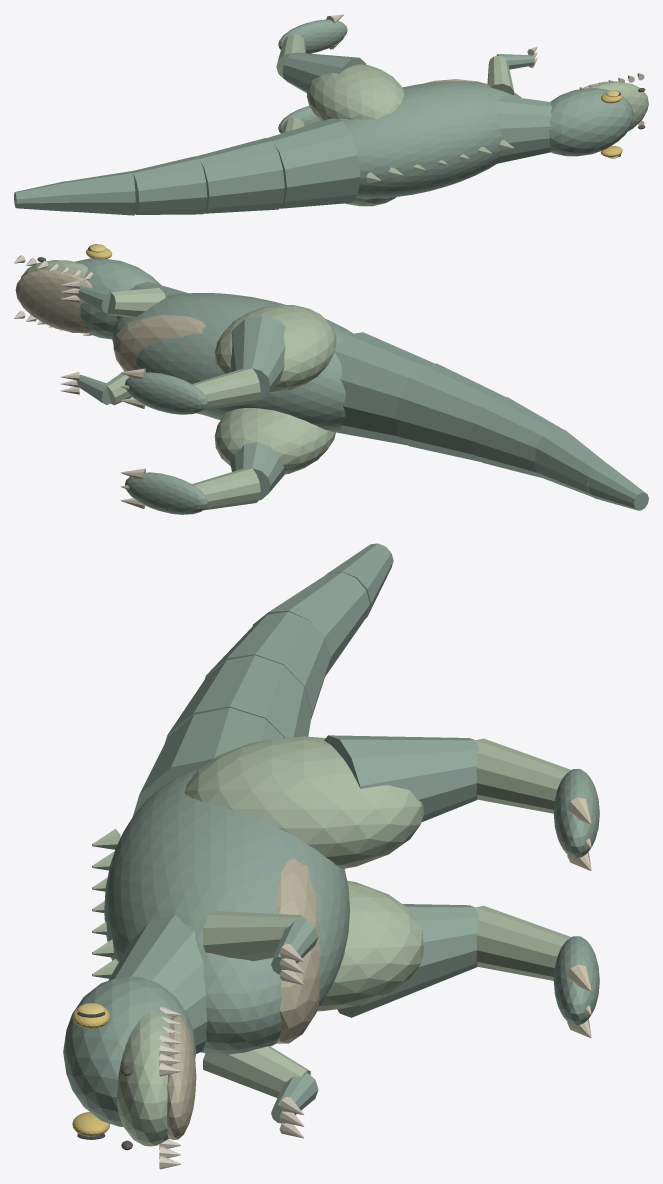
The model's file is Compsognathus.glb.
The picture shows the model from 3 angles, top to bottom: view 1: azimuth 30°, elevation 25°; view 2: azimuth 150°, elevation 25°; view 3: azimuth 270°, elevation 25°; orthographic projection. The views are drawn at different scales.
Parts seen in each view (by area): view 1: Compsognathus_000, Compsognathus_007, Compsognathus_008, Compsognathus_003, Compsognathus_034, Compsognathus_009, Compsognathus_002, Compsognathus_010, Compsognathus_035, Compsognathus_037, Compsognathus_011, Compsognathus_004 (+5 smaller); view 2: Compsognathus_000, Compsognathus_008, Compsognathus_007, Compsognathus_012, Compsognathus_034, Compsognathus_009, Compsognathus_005, Compsognathus_035, Compsognathus_010, Compsognathus_003, Compsognathus_001, Compsognathus_015 (+10 smaller); view 3: Compsognathus_000, Compsognathus_034, Compsognathus_035, Compsognathus_003, Compsognathus_012, Compsognathus_008, Compsognathus_002, Compsognathus_004, Compsognathus_007, Compsognathus_013, Compsognathus_009, Compsognathus_014 (+11 smaller).
Boxes of the visible parts, x1,y1,x2,y2 form: Compsognathus_000: (323, 81, 521, 198); Compsognathus_007: (267, 118, 360, 208); Compsognathus_008: (196, 138, 284, 213); Compsognathus_003: (549, 88, 633, 156); Compsognathus_034: (307, 64, 404, 121); Compsognathus_009: (132, 156, 207, 214); Compsognathus_002: (496, 95, 551, 163); Compsognathus_010: (66, 171, 135, 215); Compsognathus_035: (282, 52, 366, 92); Compsognathus_037: (278, 19, 347, 53); Compsognathus_011: (14, 181, 68, 211); Compsognathus_004: (588, 82, 648, 131); Compsognathus_000: (112, 293, 353, 431); Compsognathus_008: (395, 363, 505, 461); Compsognathus_007: (334, 332, 434, 445); Compsognathus_012: (214, 408, 335, 474); Compsognathus_034: (214, 304, 336, 392); Compsognathus_009: (470, 397, 562, 477); Compsognathus_005: (15, 270, 91, 333); Compsognathus_035: (230, 316, 285, 400); Compsognathus_010: (534, 429, 607, 497); Compsognathus_003: (74, 258, 160, 339); Compsognathus_001: (113, 315, 206, 414); Compsognathus_015: (125, 472, 207, 514); Compsognathus_000: (104, 770, 349, 1054); Compsognathus_034: (184, 736, 423, 868); Compsognathus_035: (324, 735, 479, 822); Compsognathus_003: (63, 976, 196, 1126); Compsognathus_012: (317, 880, 423, 1011); Compsognathus_008: (165, 655, 311, 742); Compsognathus_002: (108, 914, 207, 1053); Compsognathus_004: (117, 1011, 170, 1146); Compsognathus_007: (133, 707, 284, 815); Compsognathus_013: (337, 904, 479, 1017); Compsognathus_009: (205, 611, 330, 719); Compsognathus_014: (475, 905, 571, 980).
Size of the model in its own units: 2.4 by 0.5428 by 0.9637.
